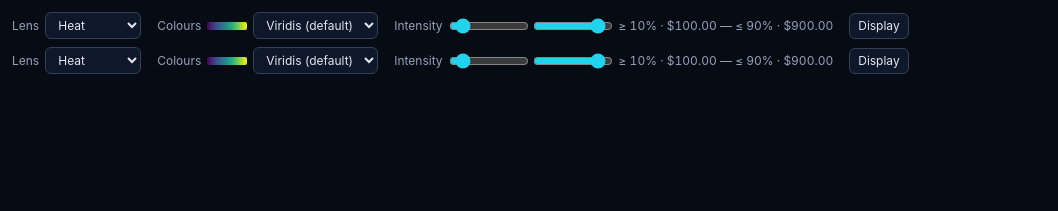
Test case: display menu toggles items and closes on Escape
Click the 2nd button "Display" at (879, 60), box [849,48,909,74]
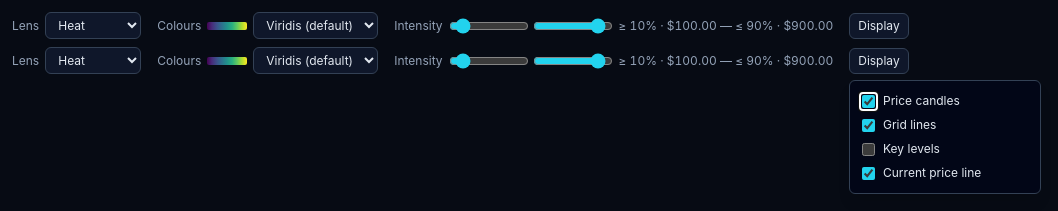
Expected: the number of checkboxes is 4
Click the checkbox labelled "Key levels" at (868, 149), box [862,142,875,156]
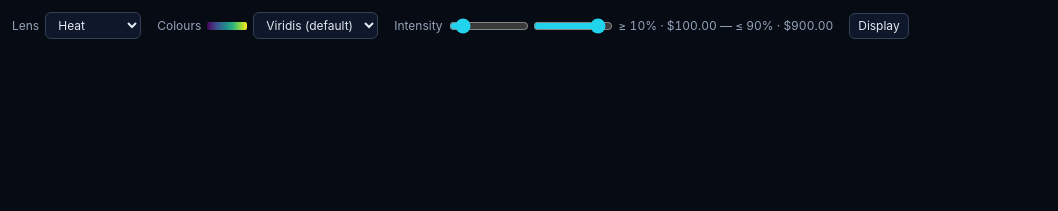
Expected: the element named "Display" is gone
